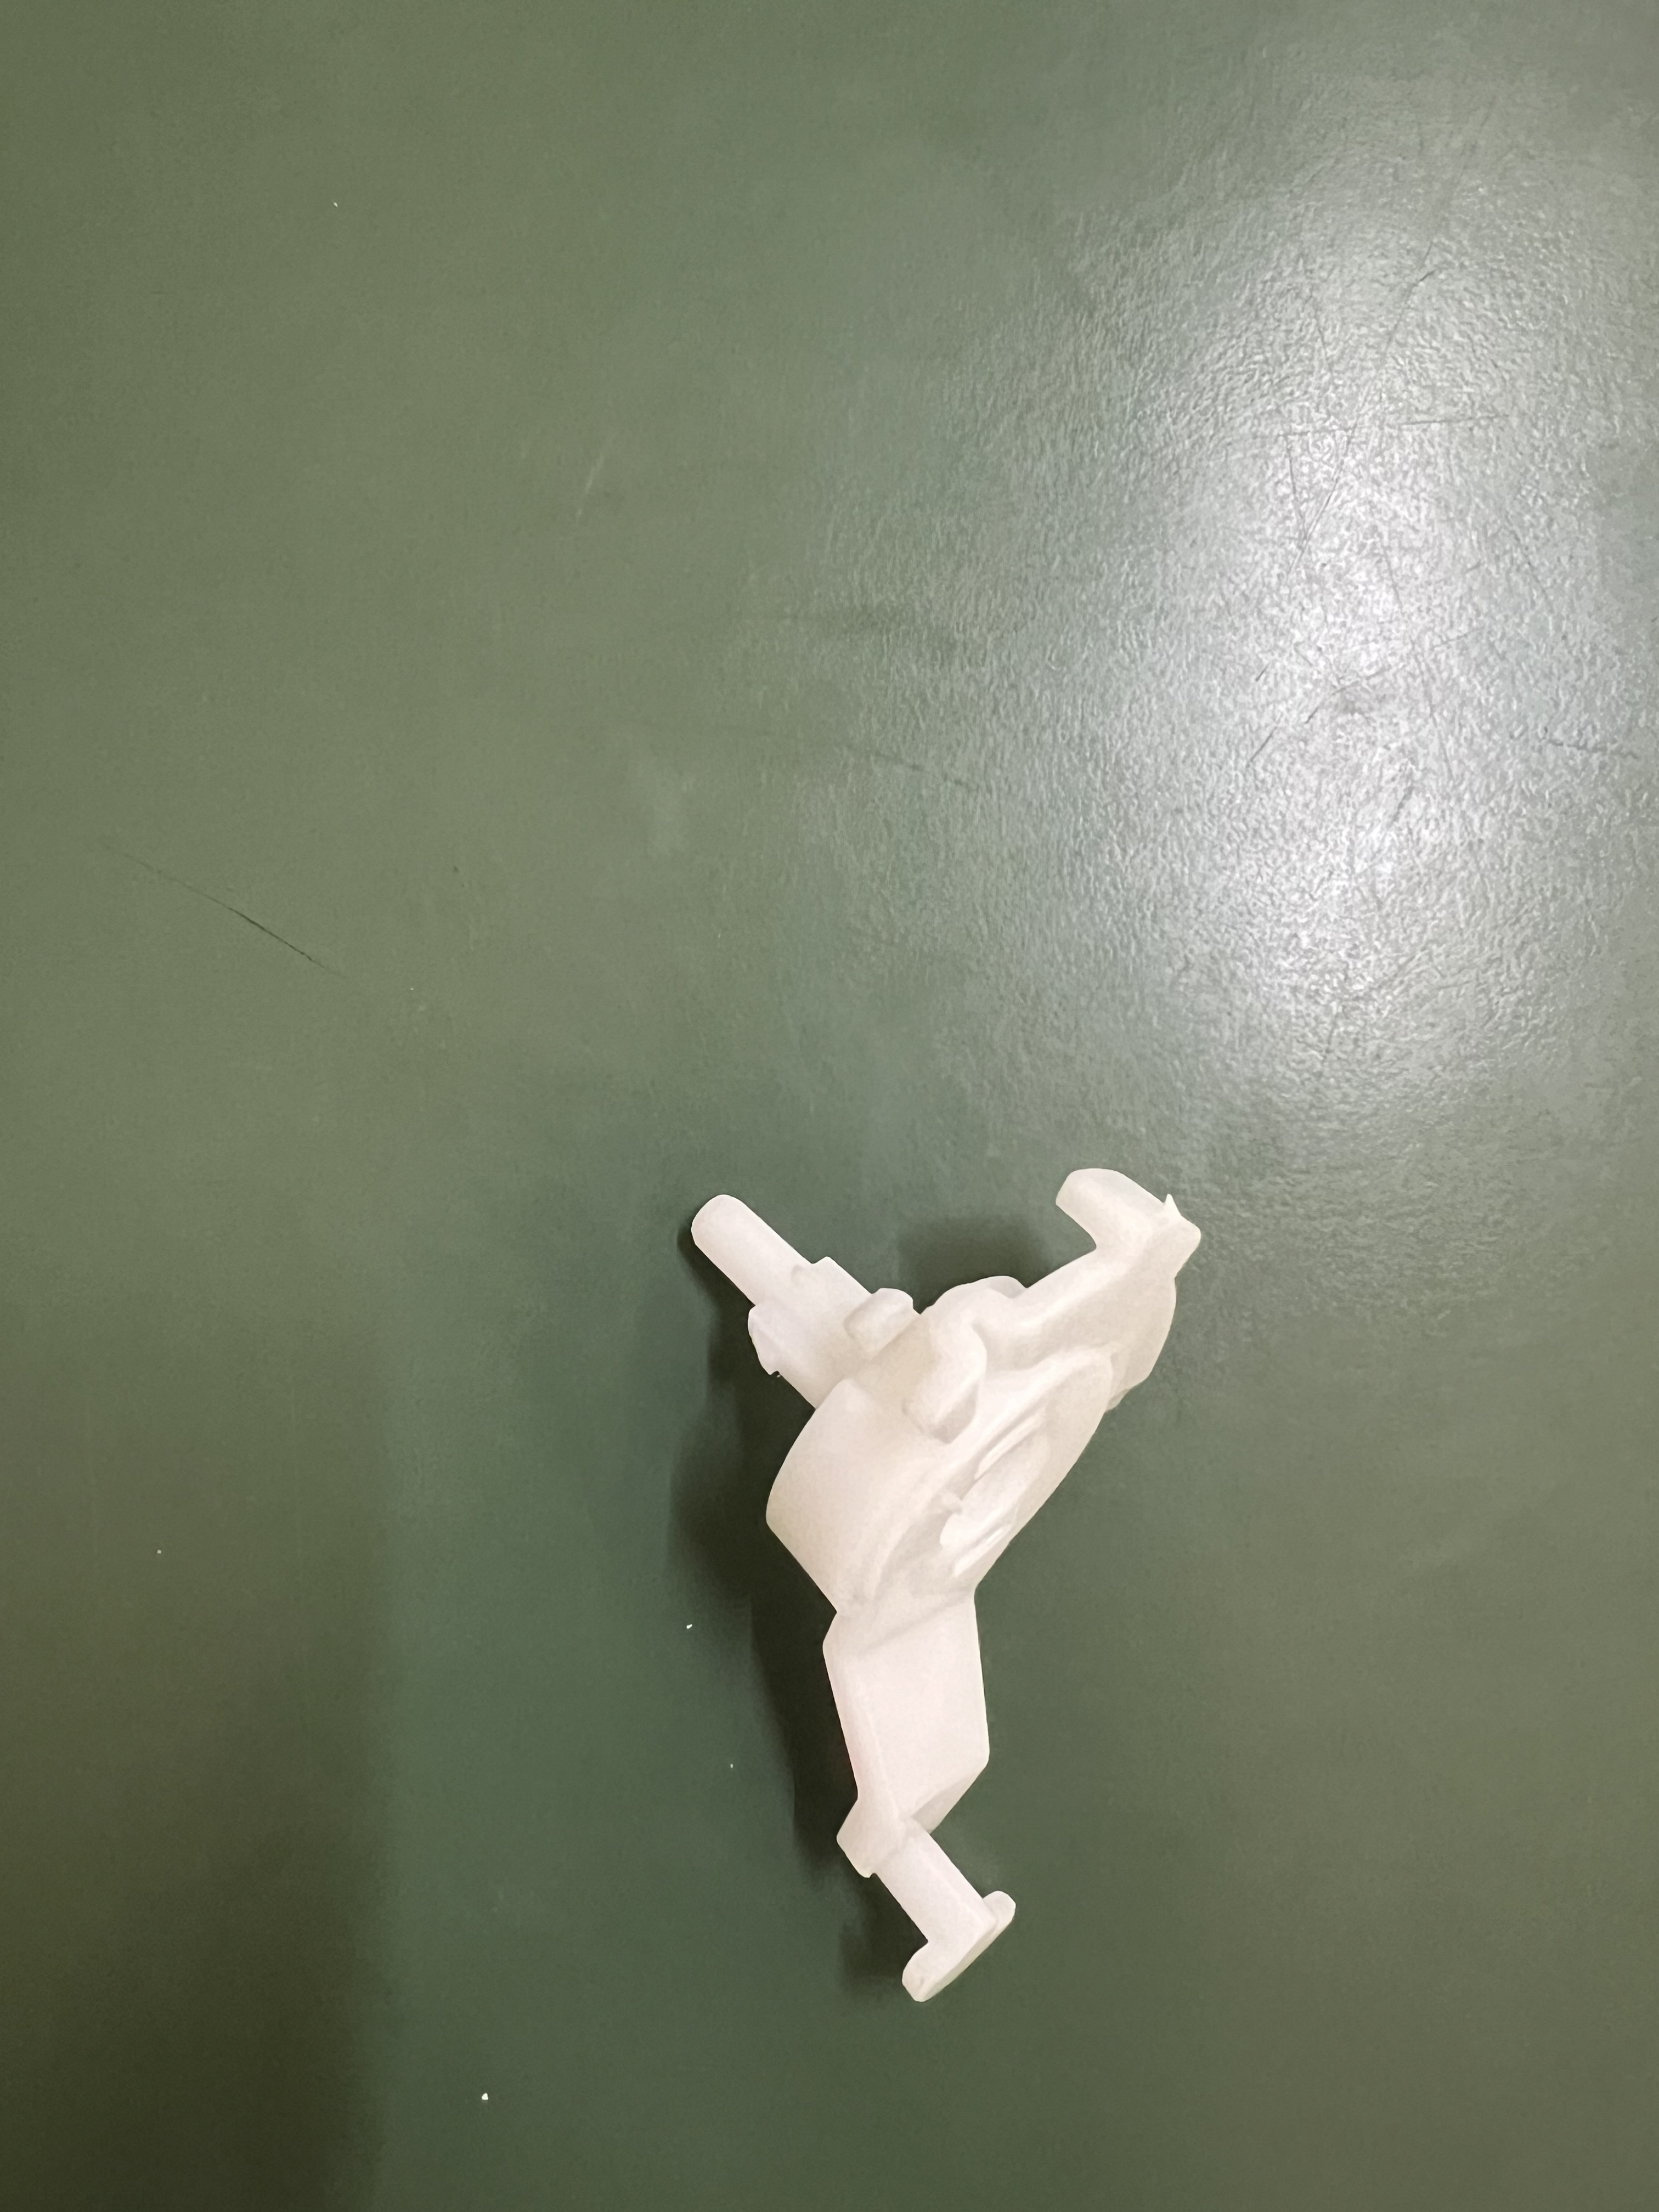drain_lever: (674, 1155, 1229, 1989)
